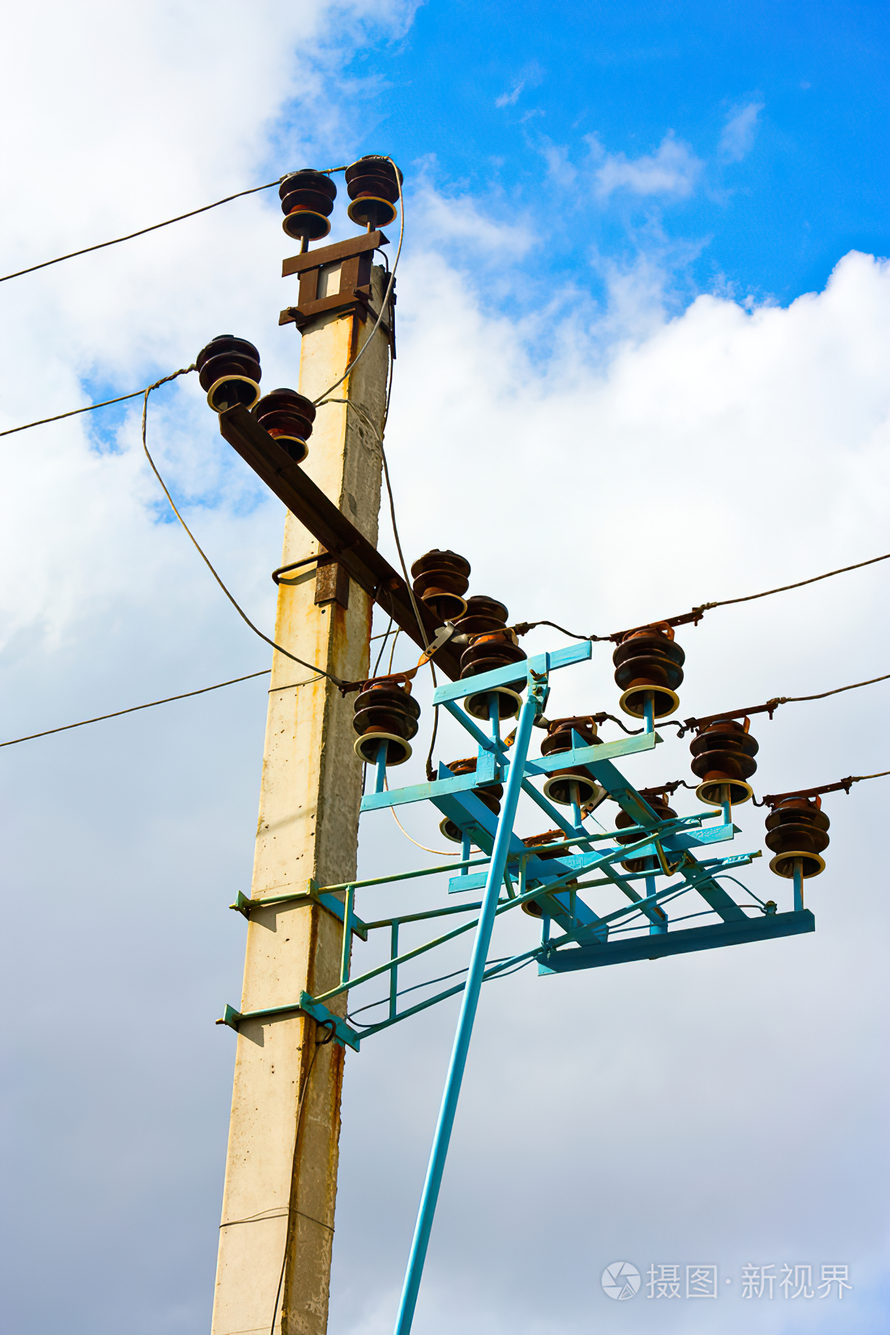insulator: (189, 331, 262, 399), (606, 633, 696, 684), (686, 724, 768, 778), (344, 684, 419, 739), (762, 805, 836, 853), (338, 152, 405, 204), (453, 641, 532, 683), (407, 549, 476, 595), (257, 386, 318, 437), (542, 732, 604, 782), (279, 165, 331, 223), (443, 596, 514, 633)
